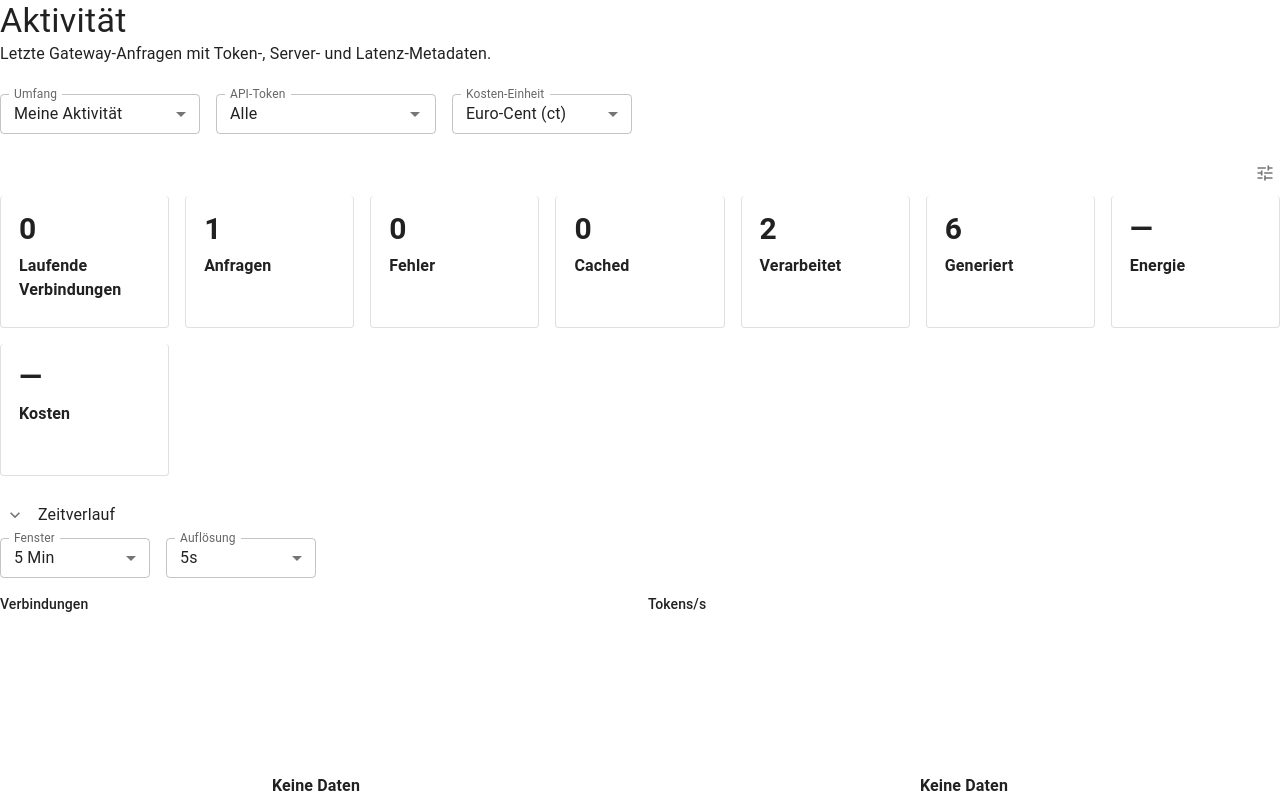
Test: reveals the owner column for a plain admin who switches to all-scope
Expected: the column heading "Benutzer" is not shown
Press the mouse on the dropdown named "Umfang" at (68, 114), box left=14, top=104, right=122, bottom=124
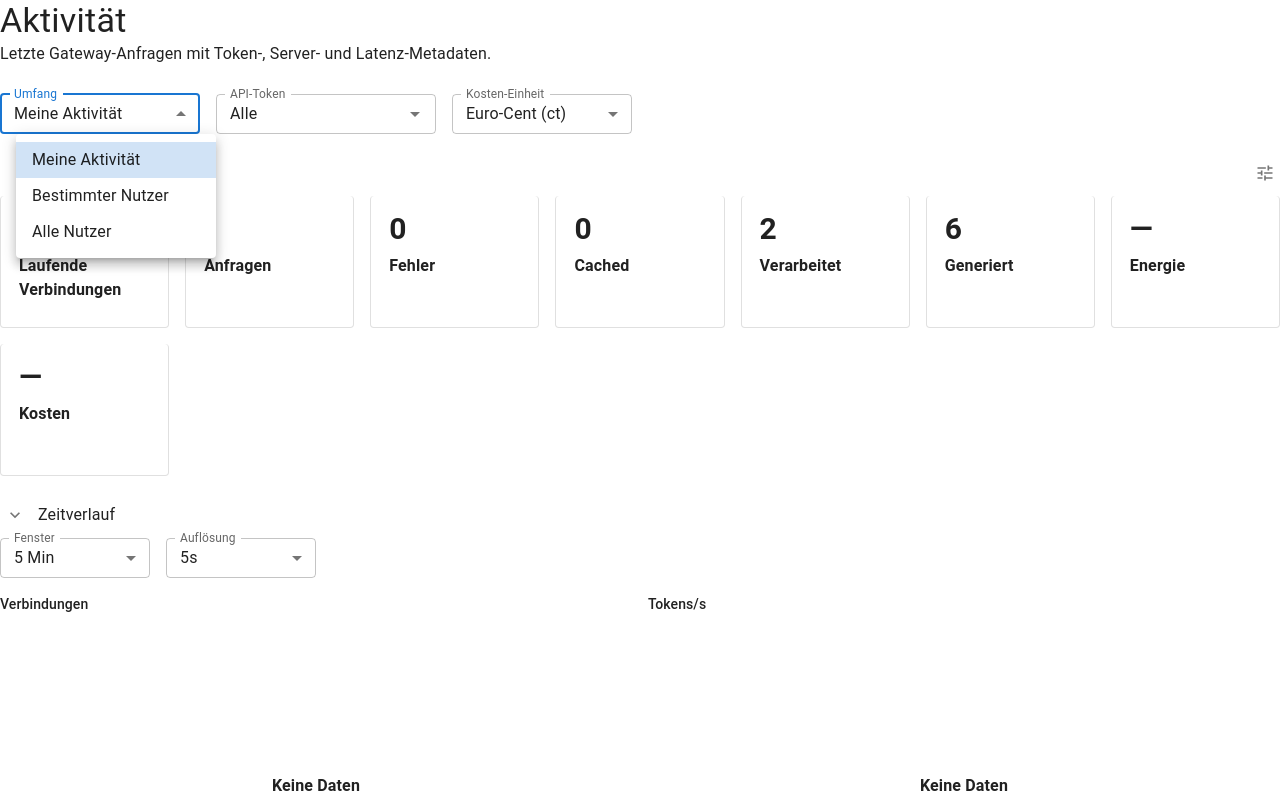
Click the option "Alle Nutzer" at (72, 232), box left=32, top=222, right=112, bottom=241
(page scrolled)
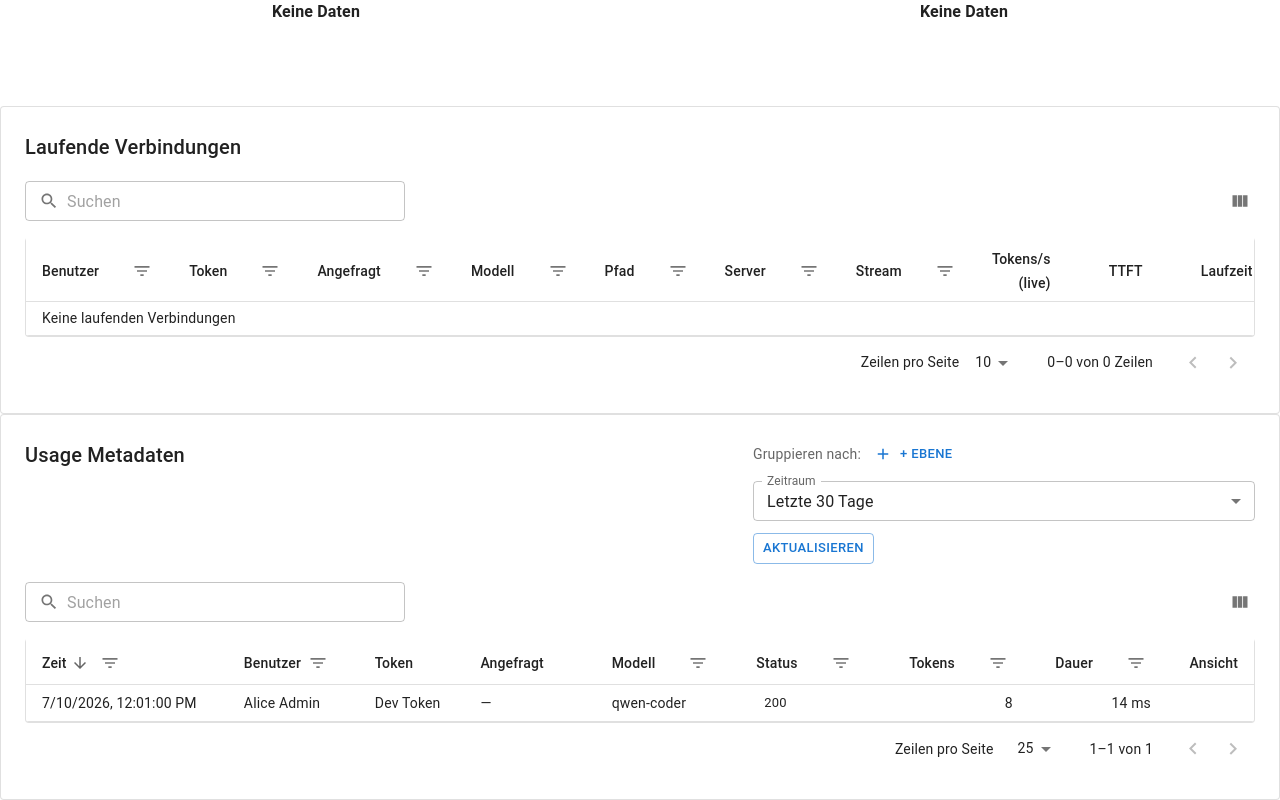
Expected: the column heading "Benutzer" in the row of "Ansicht" is shown, left=228, top=642, right=359, bottom=684
Expected: the cell "Alice Admin" is shown, left=228, top=684, right=359, bottom=722
